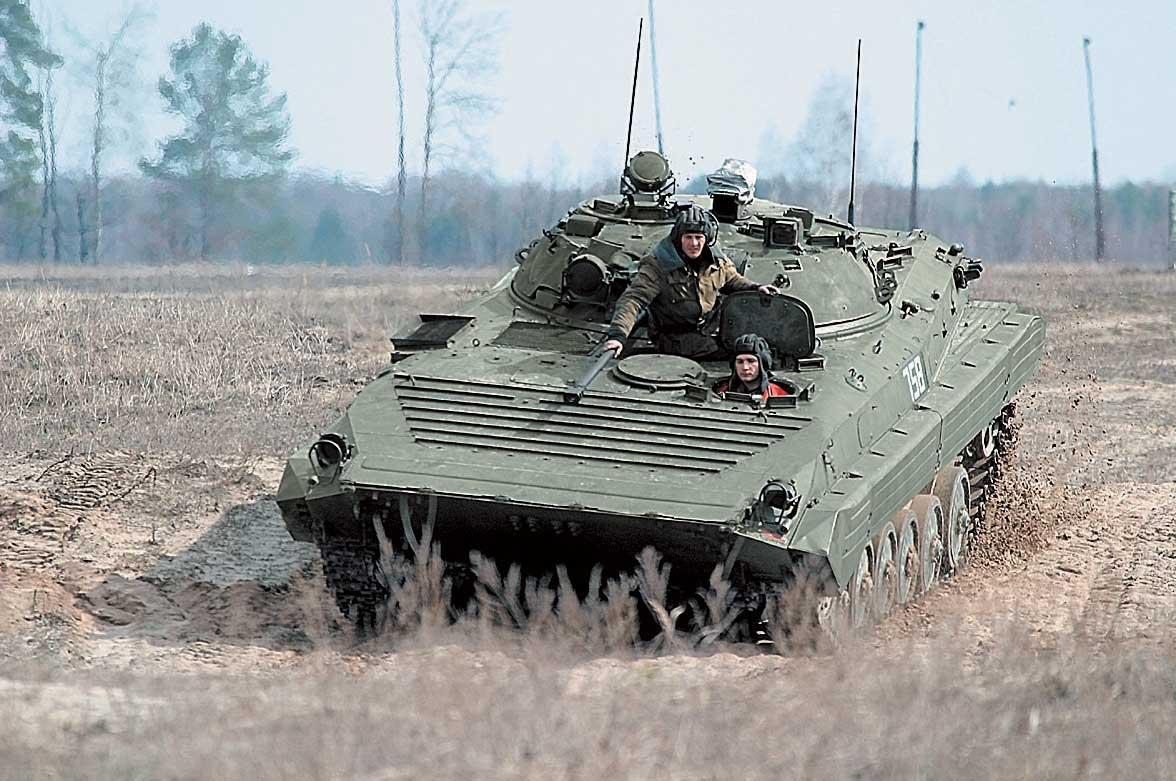tank: (271, 160, 1073, 662)
